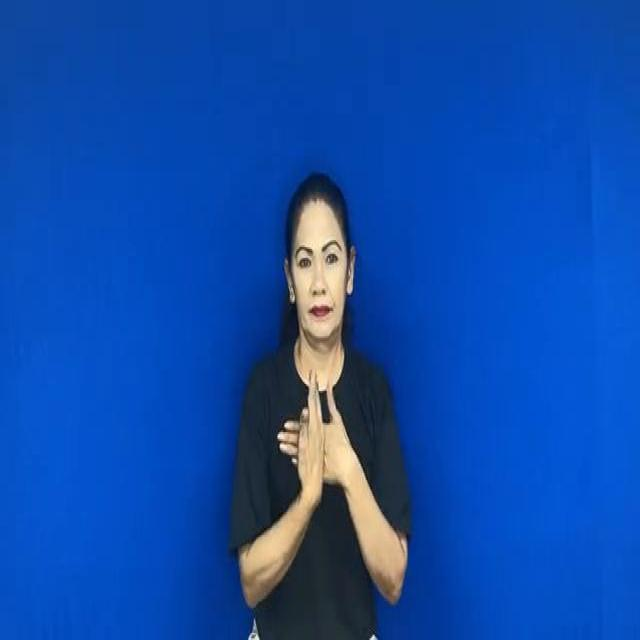bread: (278, 377, 357, 509)
